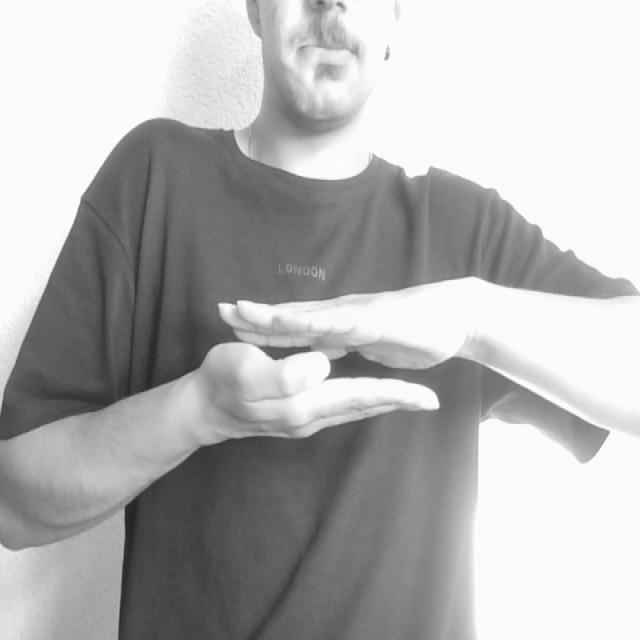Arkadas: (141, 263, 548, 457)
